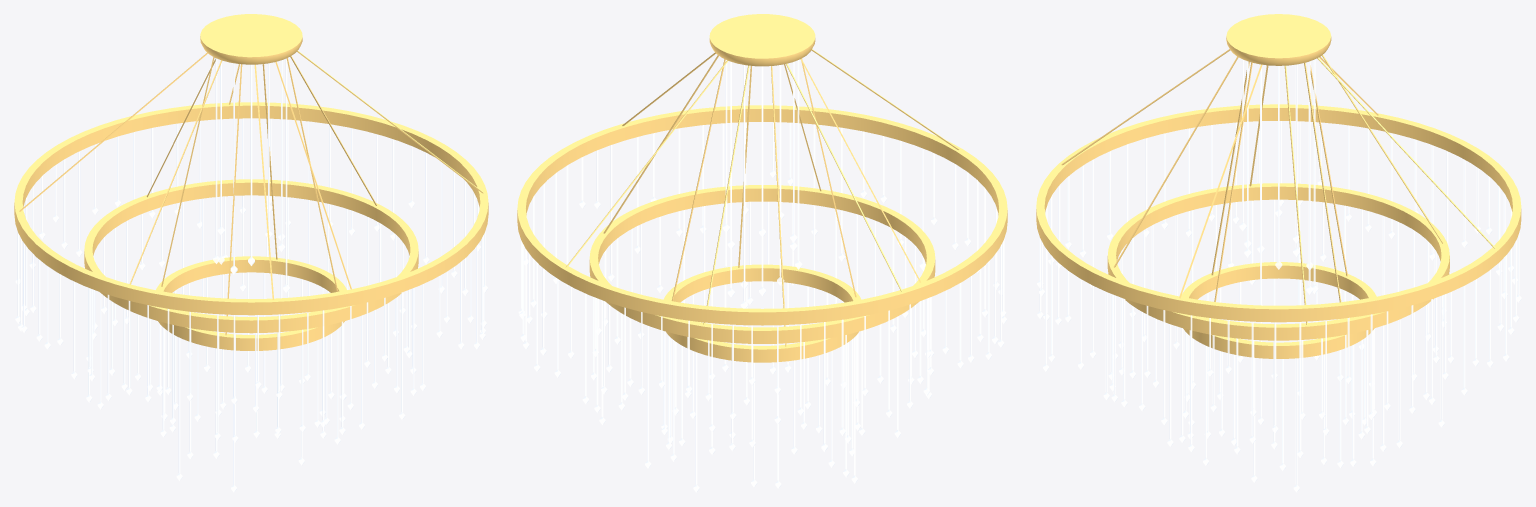
Rendered from lb5_chandelier.glb.
3 renders of one model, left to right at view 1: azimuth 30°, elevation 25°; view 2: azimuth 150°, elevation 25°; view 3: azimuth 270°, elevation 25°, orthographic. The views are drawn at different scales.
Visible parts, largest first — view 1: lb5_chandelier; view 2: lb5_chandelier; view 3: lb5_chandelier.
Part boxes in pixels (x1,y1,x2,y2): lb5_chandelier: (14, 14, 488, 492); lb5_chandelier: (517, 14, 1007, 492); lb5_chandelier: (1036, 14, 1521, 492).
Bounding box in the file's own units: 4.08 × 3.98 × 4.07.
